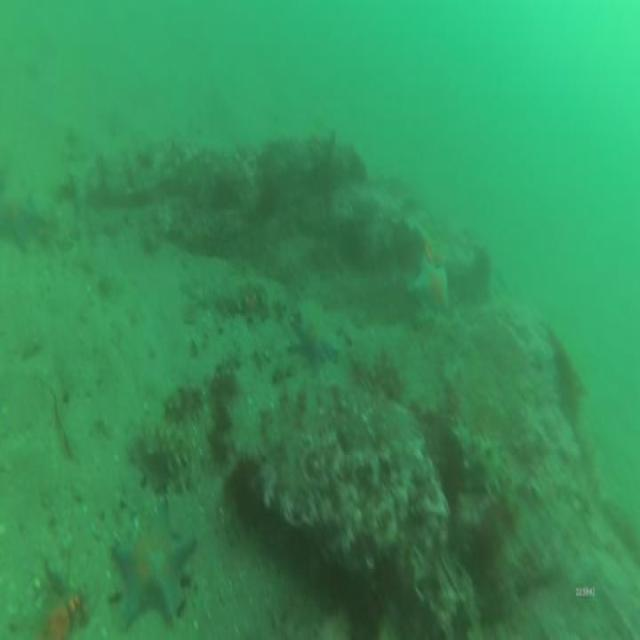holothurian: (129, 420, 198, 472), (449, 422, 500, 488), (217, 272, 269, 328)
starfish: (114, 497, 194, 628), (291, 321, 337, 376), (4, 190, 39, 252), (411, 259, 448, 316)
